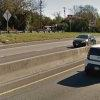Car: (71, 27, 100, 95)
